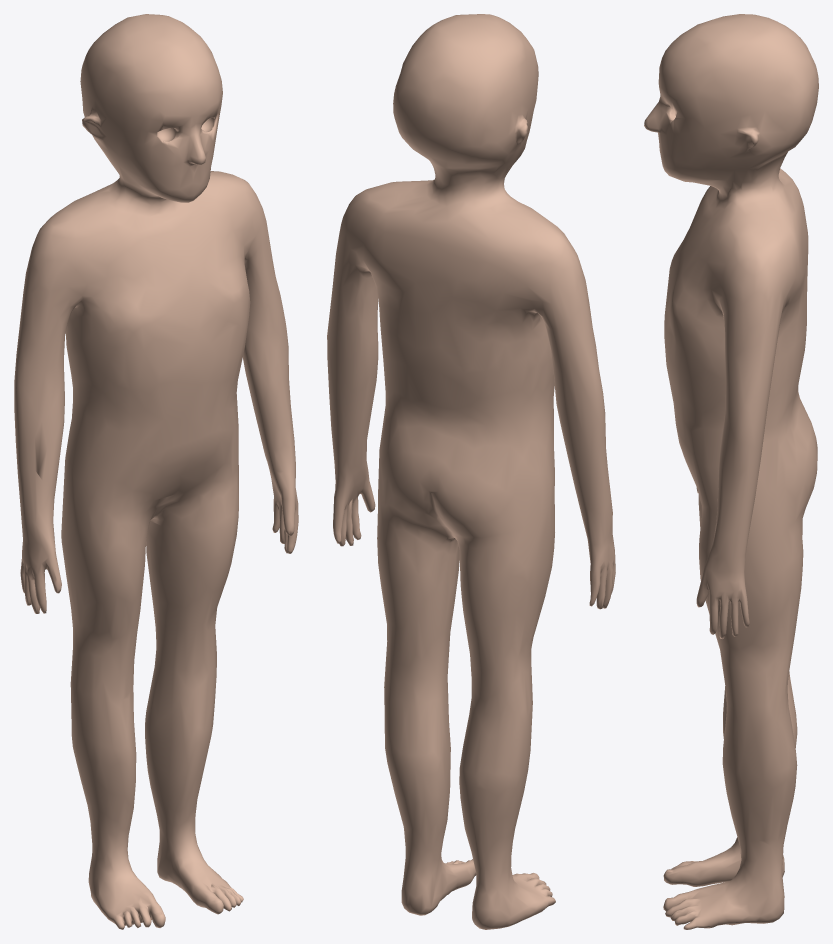
The model's file is pediatric_child_5y_female.surface.LOD2.glb.
3 renders of one model, left to right at view 1: azimuth 30°, elevation 25°; view 2: azimuth 150°, elevation 25°; view 3: azimuth 270°, elevation 25°, orthographic.
Visible parts, largest first — view 1: PEDIATRIC.CHILD_5Y.FEMALE.SURFACE.SKIN; view 2: PEDIATRIC.CHILD_5Y.FEMALE.SURFACE.SKIN; view 3: PEDIATRIC.CHILD_5Y.FEMALE.SURFACE.SKIN.
Boxes of the visible parts, bbox=[...] form: PEDIATRIC.CHILD_5Y.FEMALE.SURFACE.SKIN: bbox=[14, 14, 298, 929]; PEDIATRIC.CHILD_5Y.FEMALE.SURFACE.SKIN: bbox=[327, 14, 615, 929]; PEDIATRIC.CHILD_5Y.FEMALE.SURFACE.SKIN: bbox=[644, 14, 818, 929].
Size of the model in its own units: 0.3536 by 1.09 by 0.1967.
